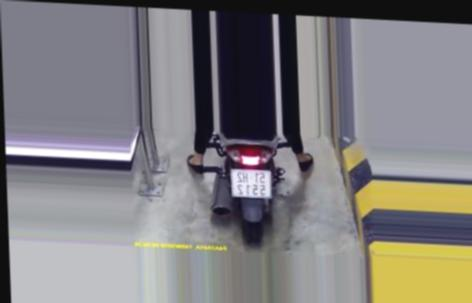License_Plate: (227, 165, 277, 203)
